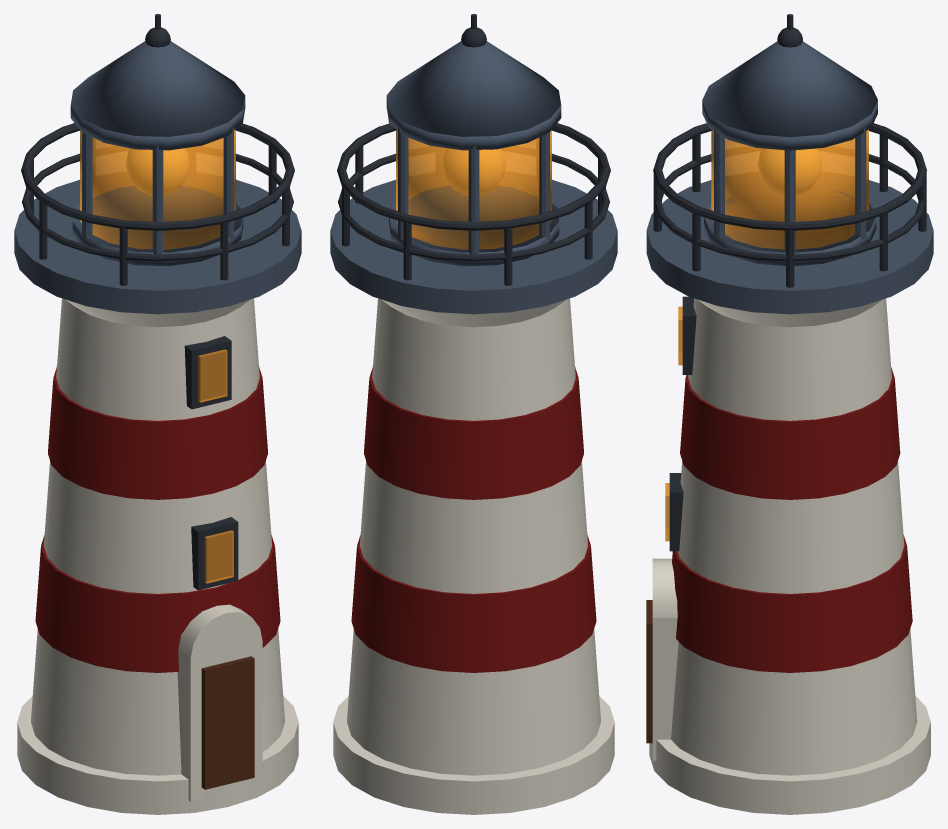
Rendered from lighthouse-grouped.fbx.
3 views of the same model, side by side, from view 1: azimuth 30°, elevation 25°; view 2: azimuth 150°, elevation 25°; view 3: azimuth 270°, elevation 25° (orthographic).
Parts seen in each view (by area): view 1: LighthouseStatic, Lantern_Group; view 2: LighthouseStatic, Lantern_Group; view 3: LighthouseStatic, Lantern_Group.
Part boxes in pixels (x1=…): LighthouseStatic: x1=14, y1=123, x2=301, y2=814; Lantern_Group: x1=70, y1=14, x2=245, y2=266; LighthouseStatic: x1=330, y1=123, x2=617, y2=814; Lantern_Group: x1=386, y1=14, x2=561, y2=266; LighthouseStatic: x1=646, y1=123, x2=933, y2=814; Lantern_Group: x1=702, y1=14, x2=877, y2=266.
Size of the model in its own units: 70.29 by 200 by 70.37.
Materials: 7 (7 with a texture image).
